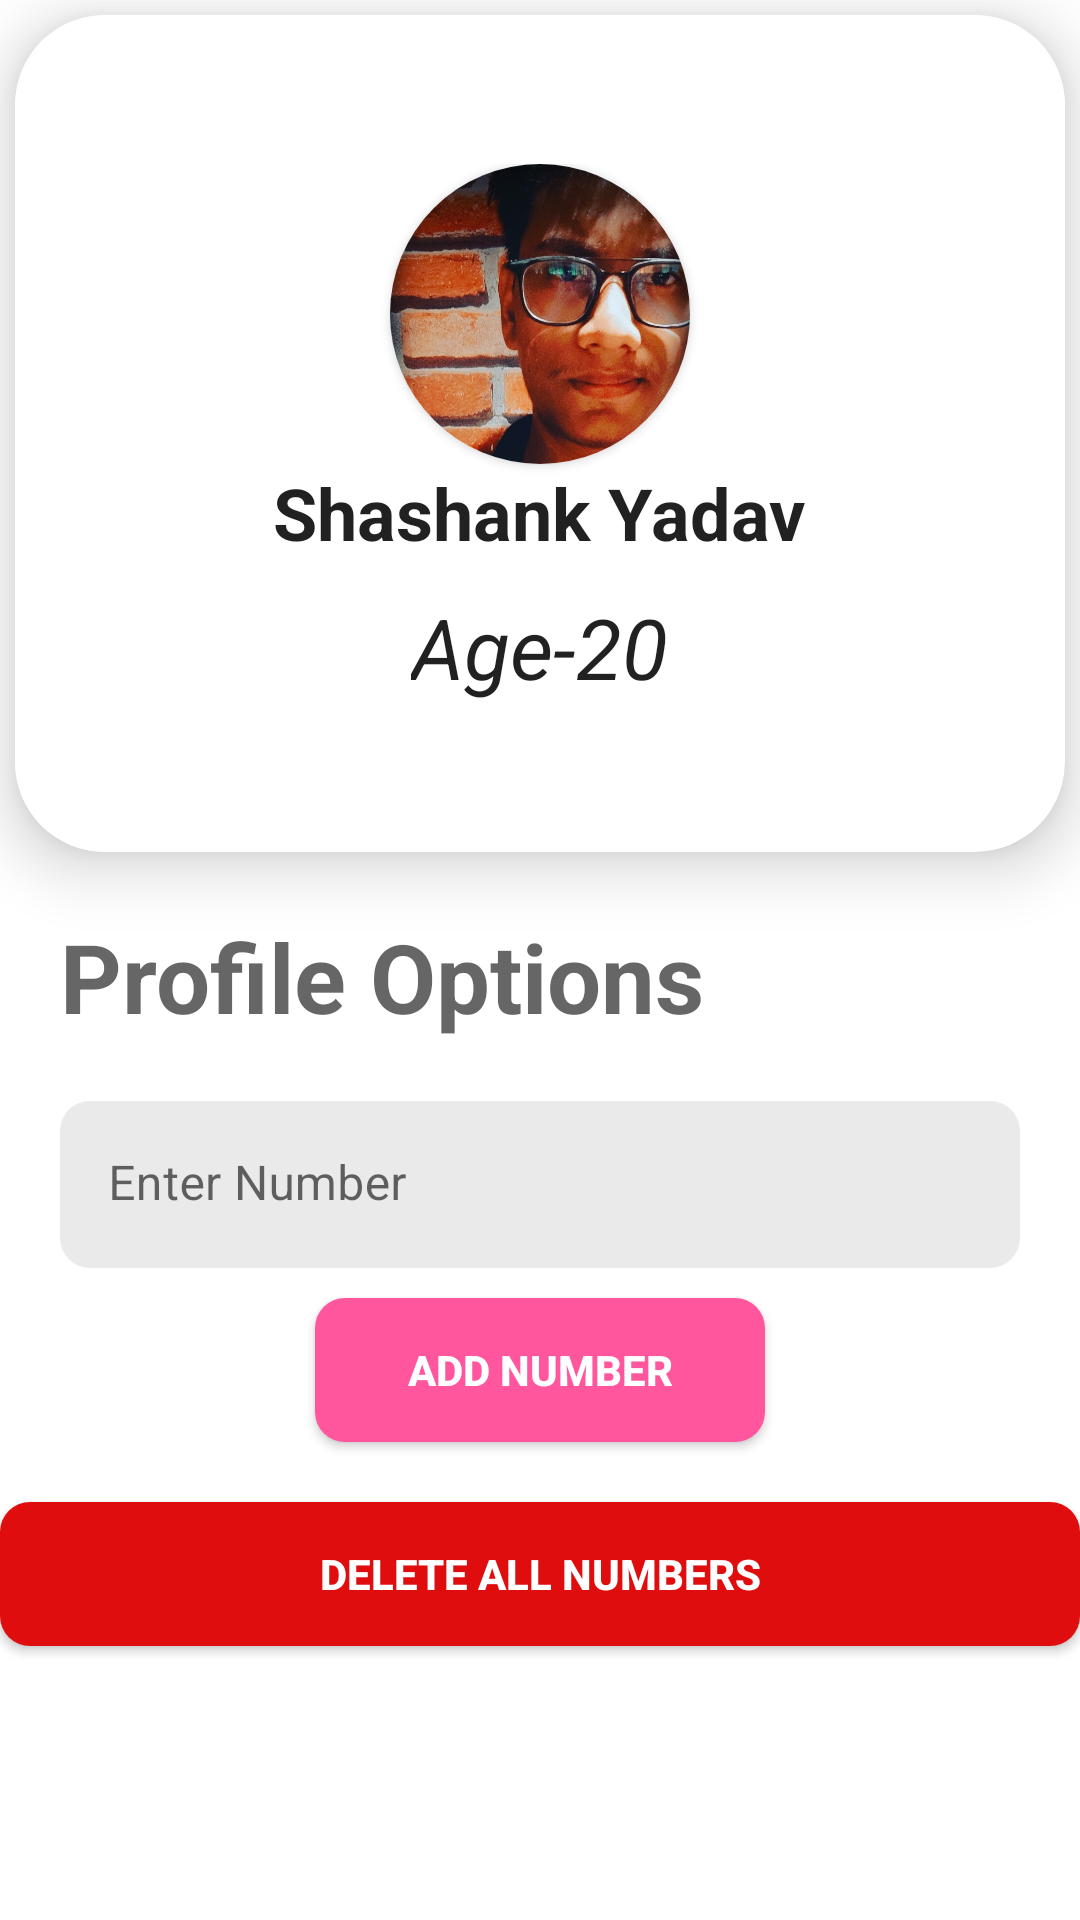

Point at icon controls on the screen. Image size 1080×1920, points as (x=x, y=y).
profile: (x=540, y=314)
